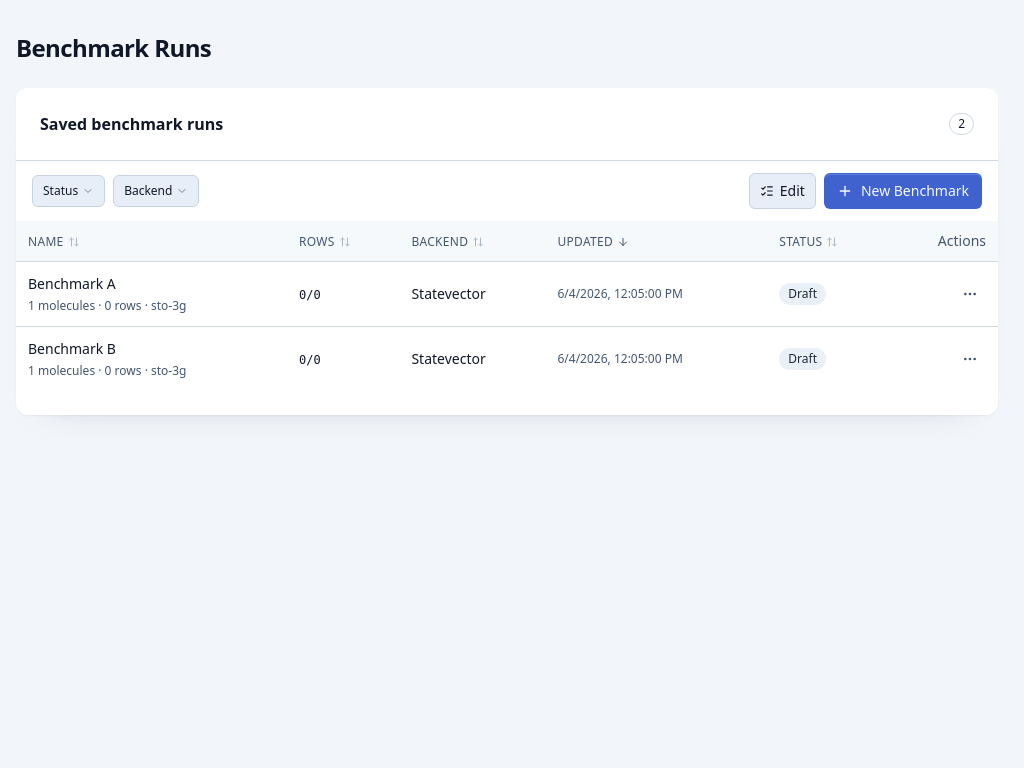
Test: BenchmarkRunsPage › keeps failed selections and reports partial delete failures
Click the button "Edit" at (782, 191), box [749,173,816,209]
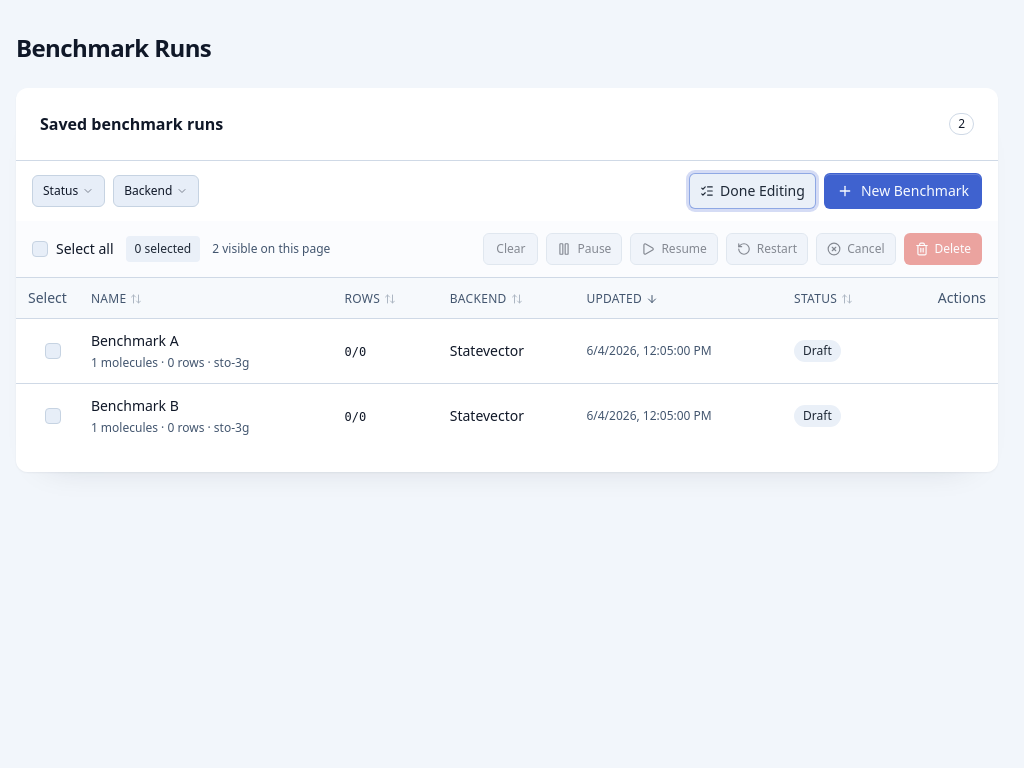
Click the checkbox named "select benchmark a" at (53, 350), box [45,342,61,358]
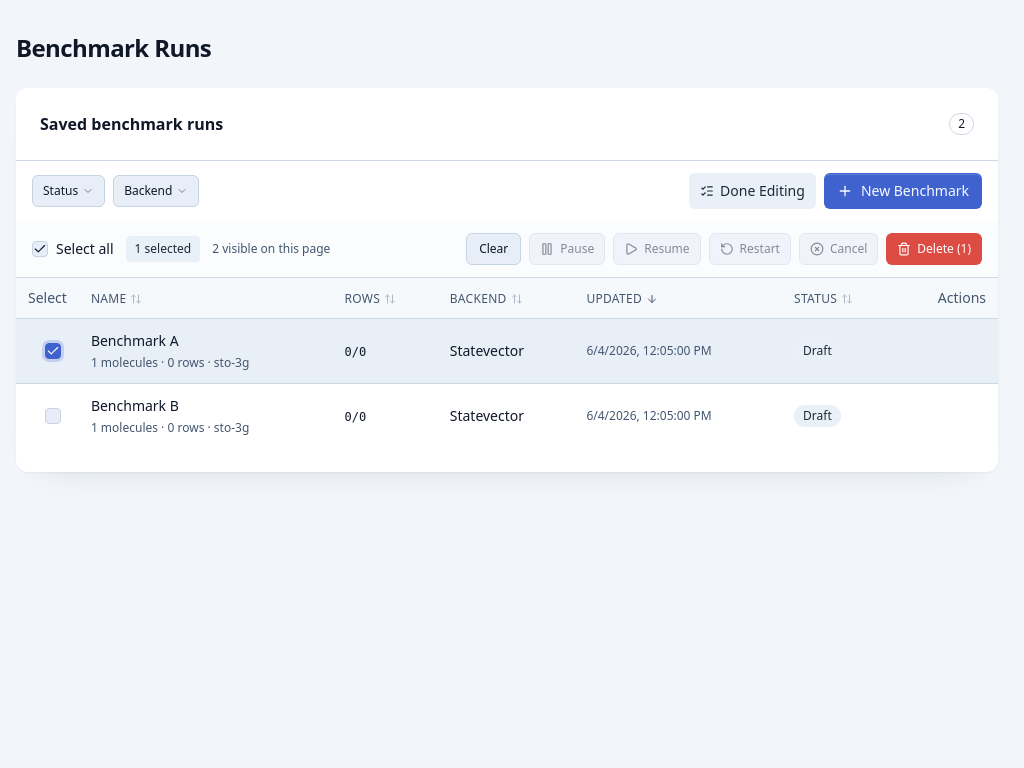
Click the checkbox named "select benchmark b" at (53, 416), box [45,408,61,424]
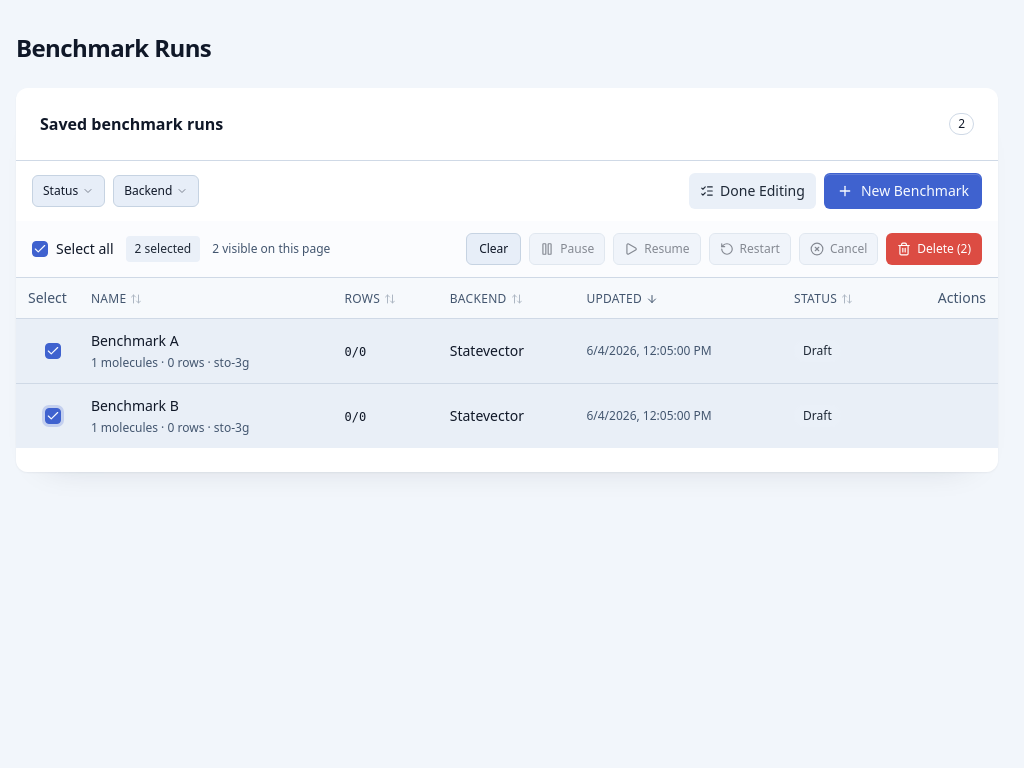
Click the button "Delete (2)" at (934, 249), box [886,233,982,265]
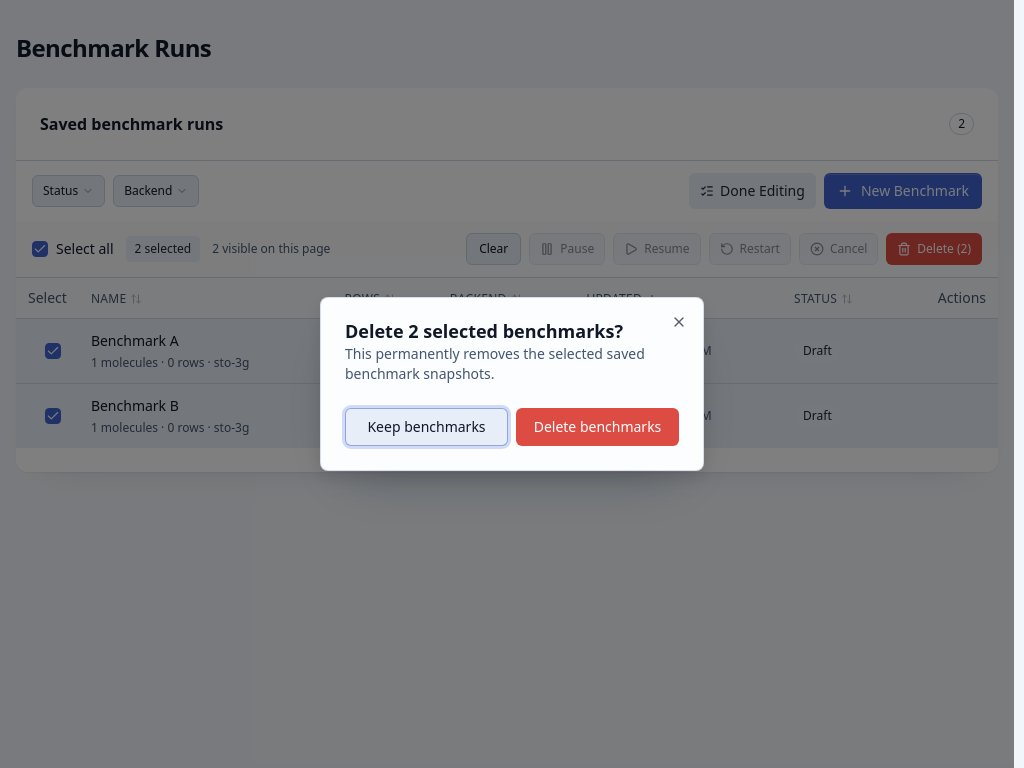
Click the button "Delete benchmarks" at (598, 427), box [516,408,679,446]
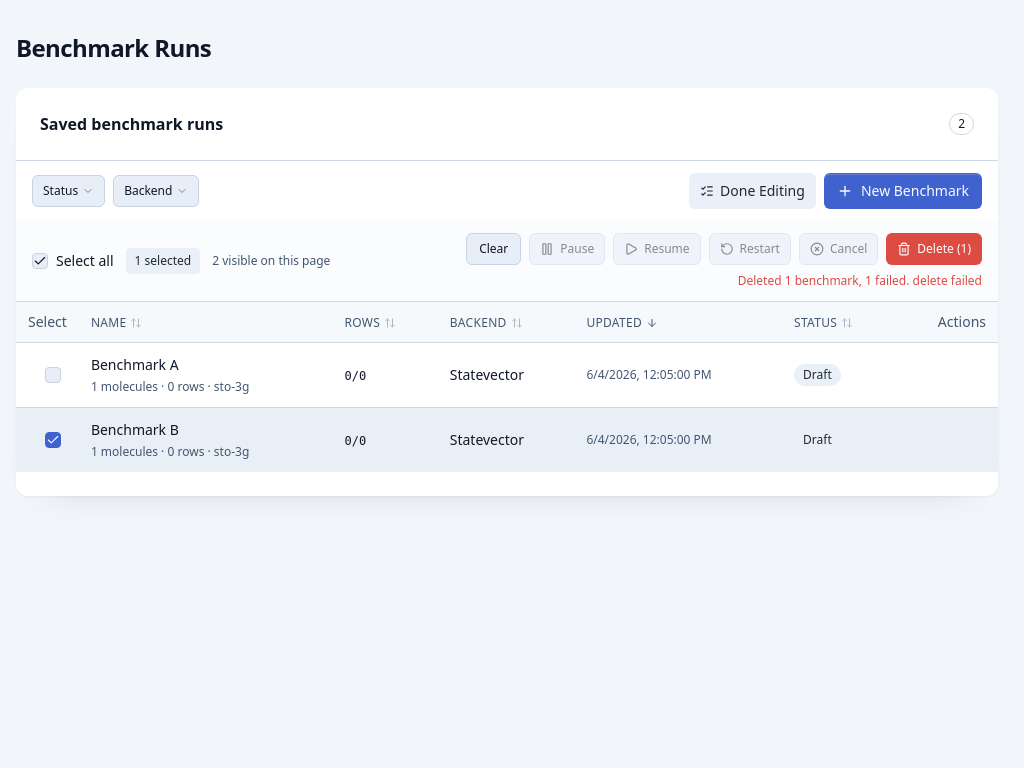
Now the checkbox named "select benchmark b" is checked, box [45,432,61,448]
Now the text "Deleted 1 benchmark, 1 failed. delete failed" is shown, box [738,273,982,289]
